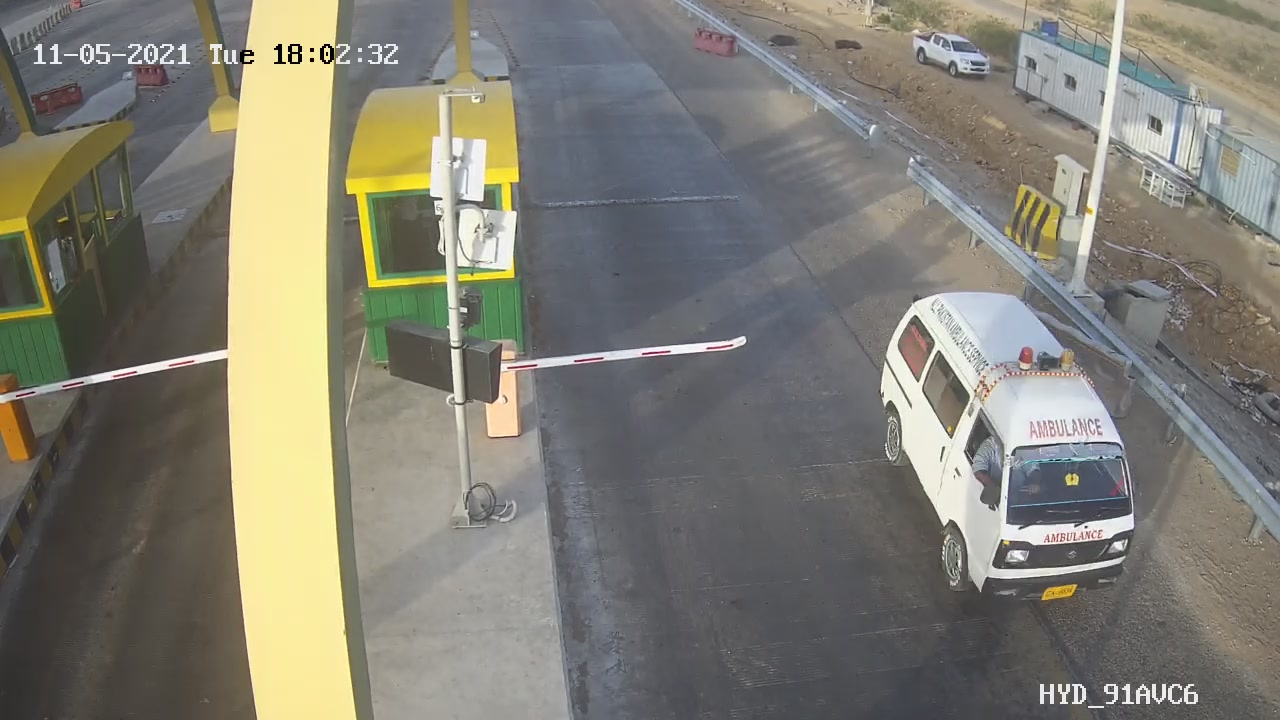F1: (876, 289, 1155, 608)
